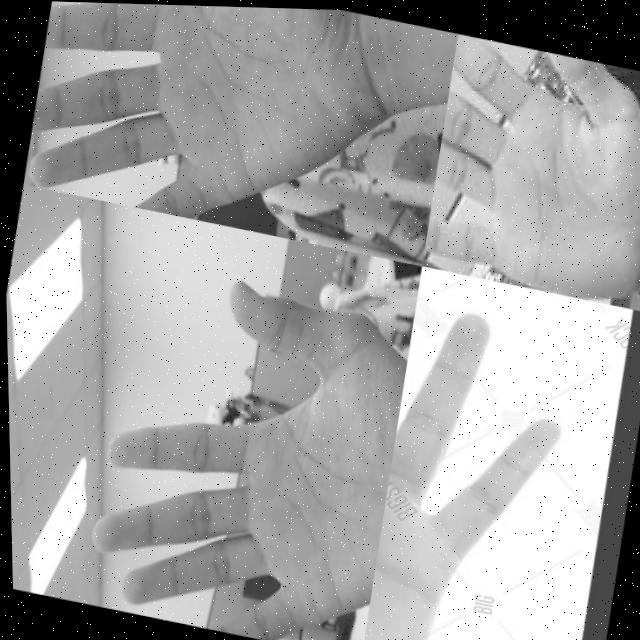hand: (68, 249, 419, 640), (350, 260, 640, 640), (19, 0, 378, 247), (416, 29, 640, 307)
